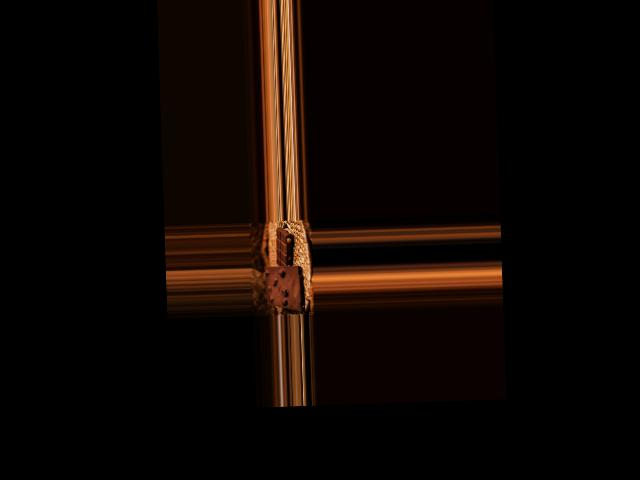chocolate: (263, 262, 304, 312)
